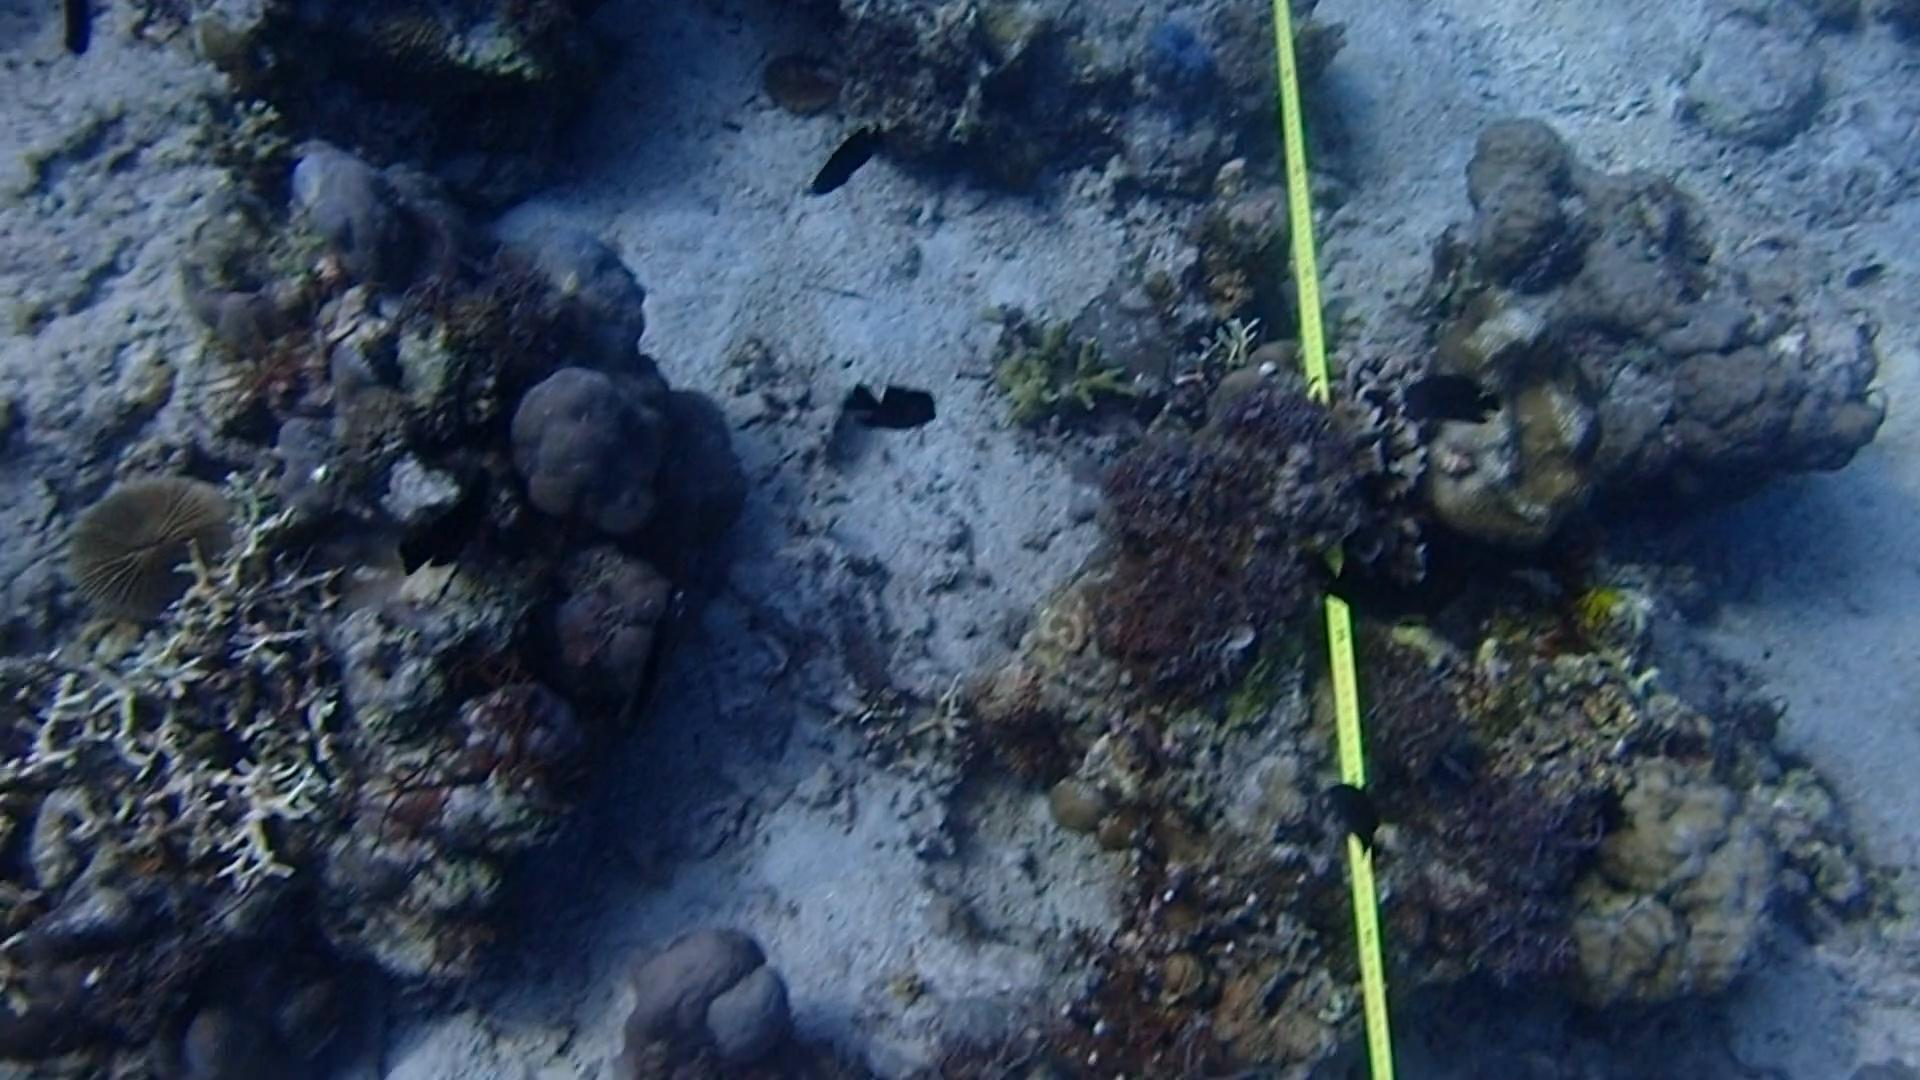Dark Fish: (390, 477, 512, 584), (1308, 761, 1433, 857), (613, 613, 687, 746), (1311, 553, 1424, 634), (783, 125, 898, 196), (1383, 371, 1499, 438), (845, 381, 943, 438), (58, 0, 119, 62)
